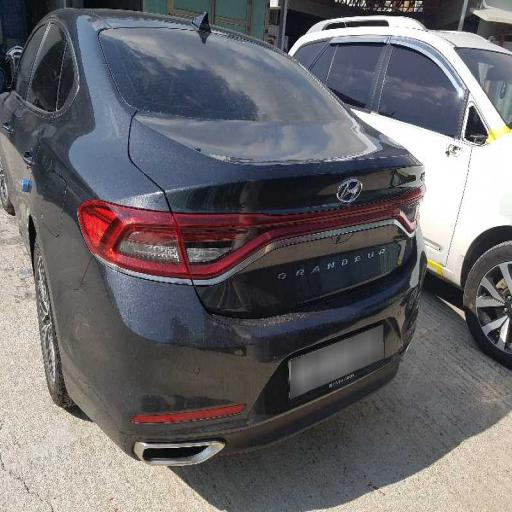dent: (140, 106, 400, 329)
